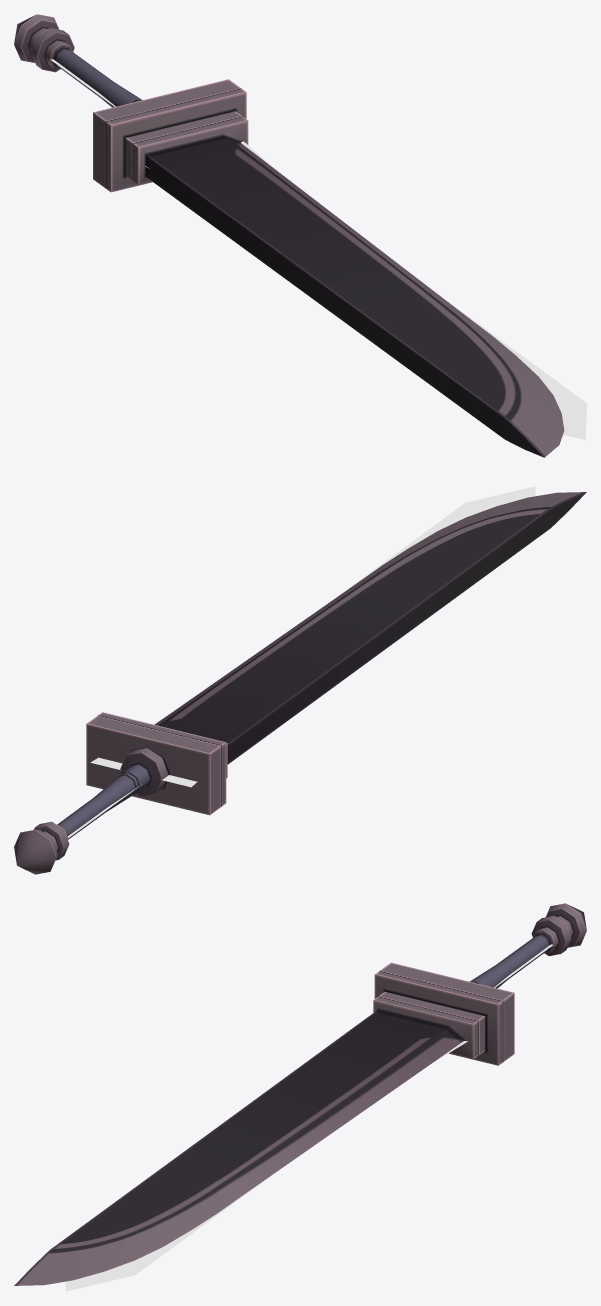
Rendered from Equip_Claymore_Aniki.fbx.
3 views of the same model, one above another, from view 1: azimuth 30°, elevation 25°; view 2: azimuth 150°, elevation 25°; view 3: azimuth 330°, elevation 25° (orthographic). The views are drawn at different scales.
Visible parts, largest first — view 1: Equip_Claymore_Aniki_Model, Equip_Claymore_Aniki_Effect; view 2: Equip_Claymore_Aniki_Model, Equip_Claymore_Aniki_Effect; view 3: Equip_Claymore_Aniki_Model, Equip_Claymore_Aniki_Effect.
Part boxes in pixels (x1,y1,x2,y2): Equip_Claymore_Aniki_Model: (14,14,564,457); Equip_Claymore_Aniki_Effect: (50,59,586,439); Equip_Claymore_Aniki_Model: (14,492,586,874); Equip_Claymore_Aniki_Effect: (68,486,535,837); Equip_Claymore_Aniki_Model: (14,903,586,1285); Equip_Claymore_Aniki_Effect: (65,944,553,1291).
Size of the model in its own units: 0.2326 by 0.1098 by 1.71.
Materials: 2 (1 with a texture image).
